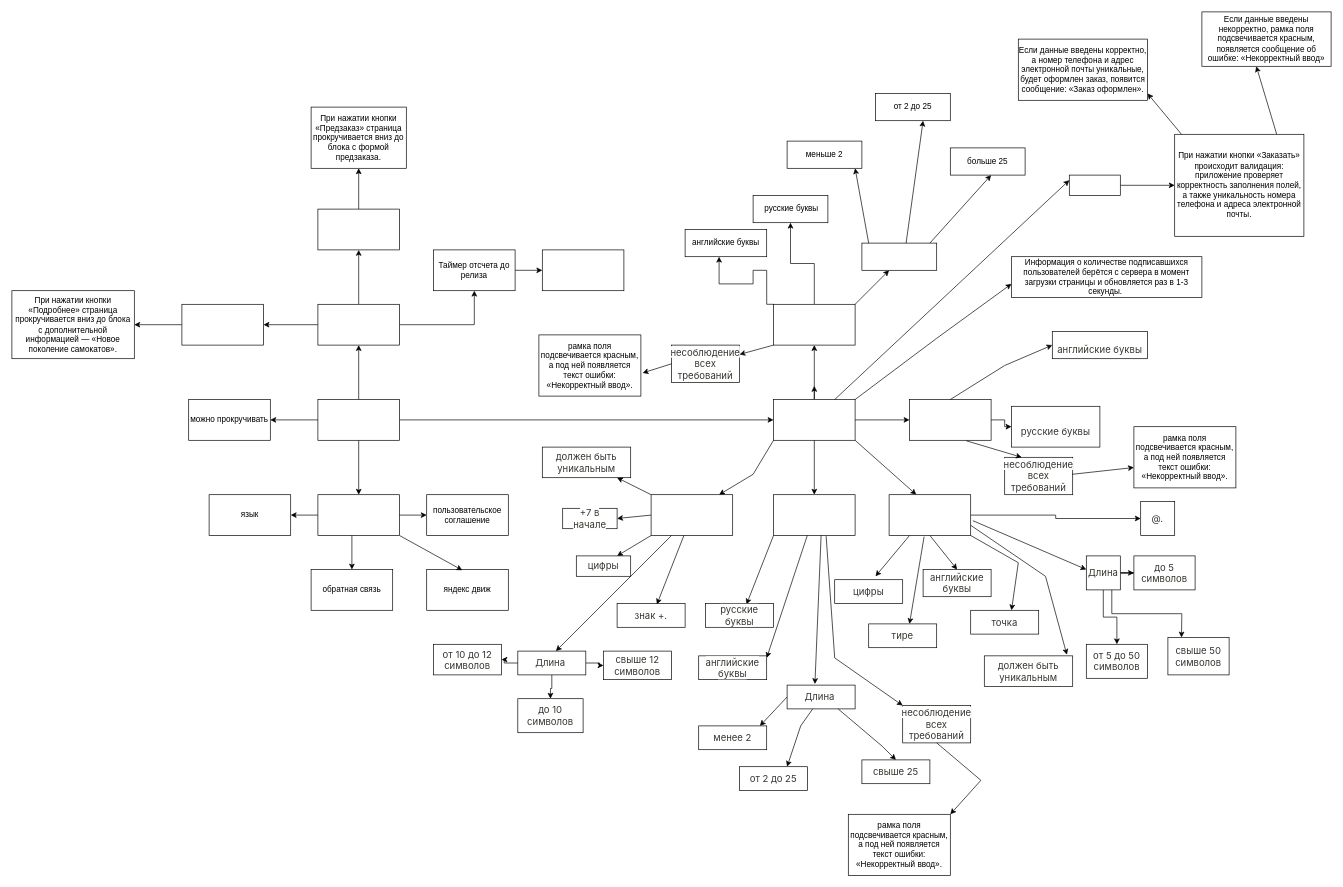
Some shapes in this 1343 by 887 pixel diagram are drawn without their labels. The centre of each missing label's shape, as x and y in pixels:
Верхний блок: the point at 358,324
заказать: the point at 1094,185
Имя: the point at 814,324
Кнопка предзаказ: the point at 358,229
количество символов: the point at 899,256
Нижний блок: the point at 358,515
Номер телефона: the point at 691,515
Отсчитывает каждую секунду: the point at 583,270
Отчество: the point at 814,515
Подробнее: the point at 222,324
фамилия: the point at 950,419
Форма предзаказа: the point at 814,419
Электронный адрес: the point at 929,515
Яндекс-самокат: the point at 358,419
